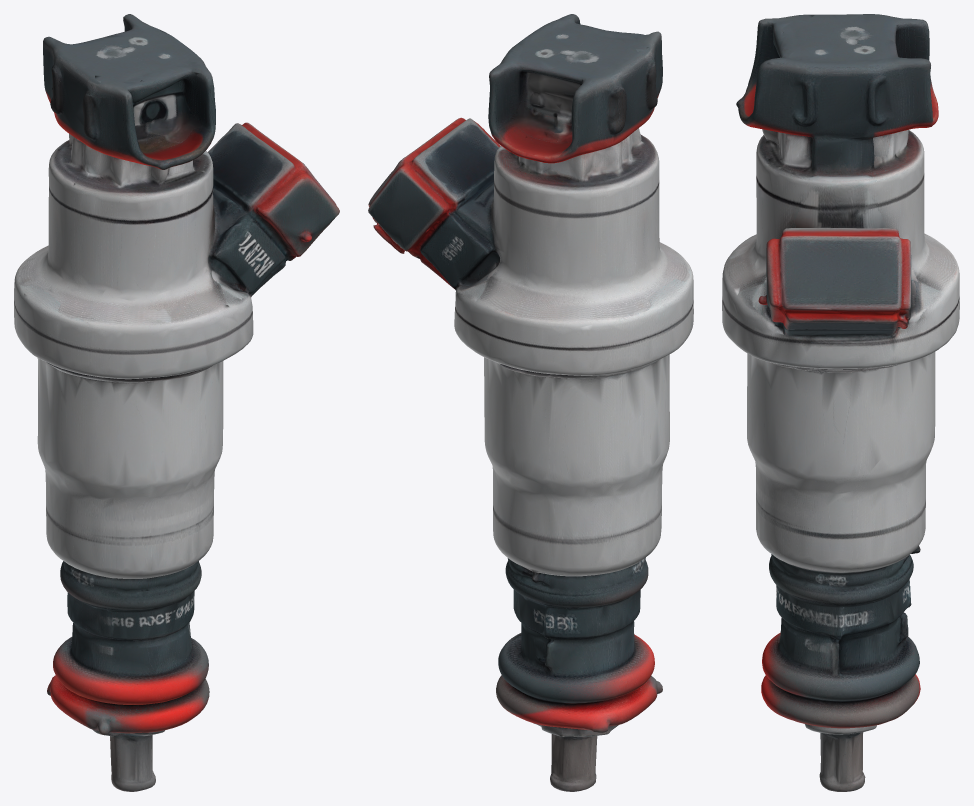
Rendered from injector.glb.
3 views of the same model, side by side, from view 1: azimuth 30°, elevation 25°; view 2: azimuth 150°, elevation 25°; view 3: azimuth 270°, elevation 25° (orthographic).
Size of the model in its own units: 0.7998 by 2 by 0.5803.
Materials: 1 (1 with a texture image).
